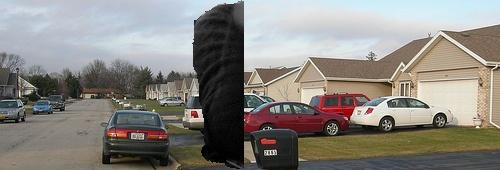tampered: (193, 1, 244, 169)
